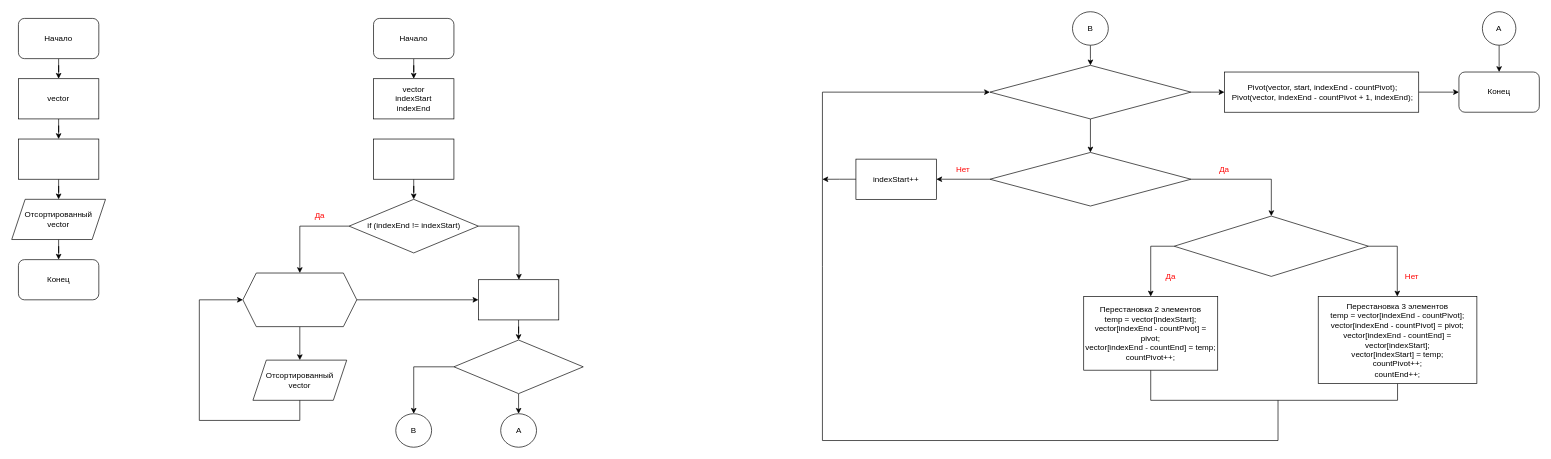
Image size: 1551x459. Some labels were removed from this diagram. The centre of each missing label's shape, as x and y in pixels:
countEnd = 0 countPivot = 1 pivot = vector[indexEnd]: [518,299]
i = indexStart до indexEnd: [299,299]
if (indexEnd - countPivot - indexStart == 0): [1271,245]
if (indexStart == indexEnd): [518,366]
if (vector[indexStart] > pivot): [1090,179]
start = indexStart: [413,158]
while (indexStart < indexEnd + 1 - countPivot): [1090,92]
Вызов метода Pivot(vector, indexStart, indexEnd): [58,158]
